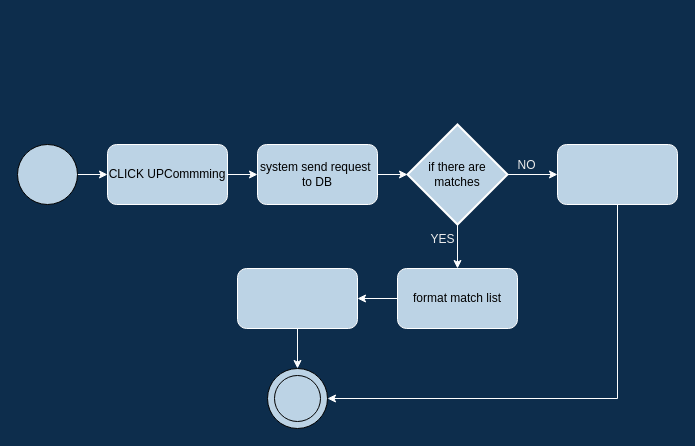
Image size: 695x446. Some labels were removed from this diagram. The shapes that lost their labels are listed below. From the top down, each one's centre as x and y in pixels, then its label:
[617,174]: display NO upcomming matches
[297,298]: display list of matchs
